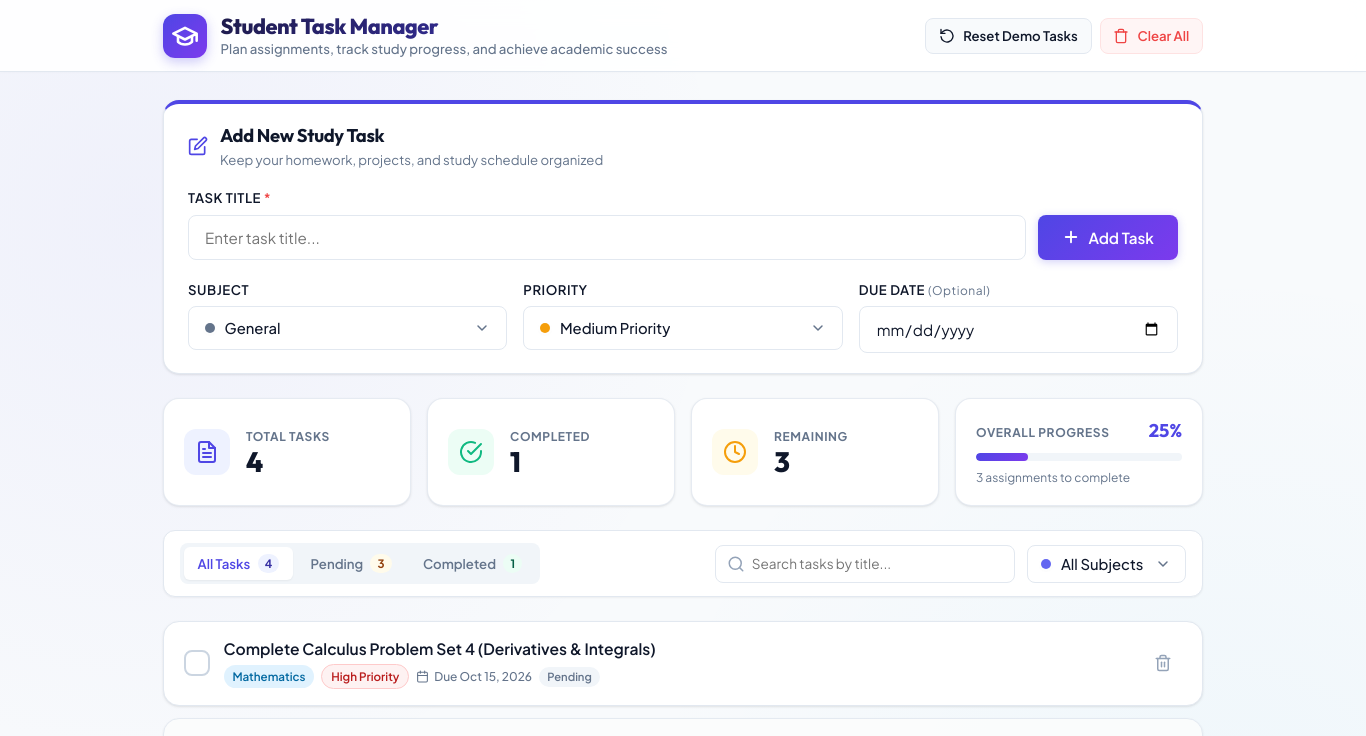
Test: Student Task Manager - Essential Assignment Test Suite › searches tasks dynamically by query title (Search Filter)
The image size is (1366, 736).
Type "History" into the search field with placeholder "Search tasks by title..." at (865, 564), box [715,545,1015,583]
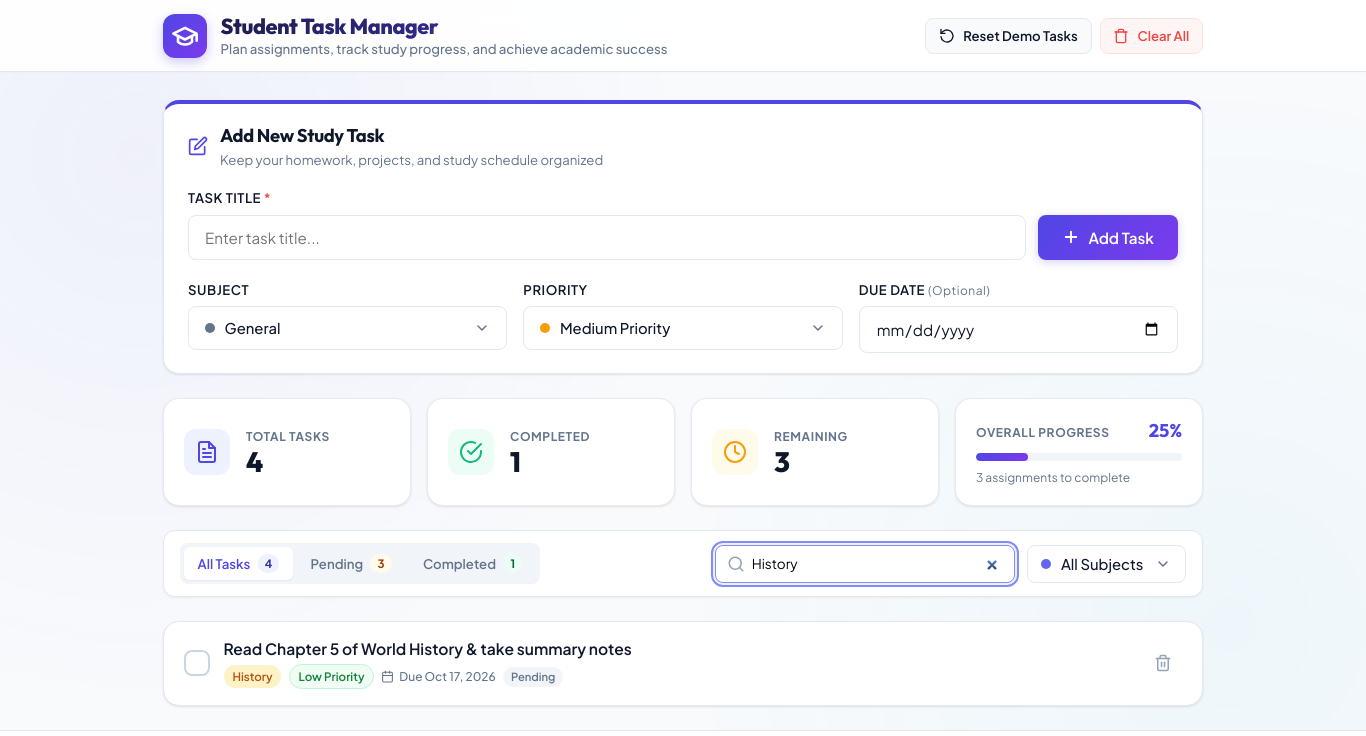
Check: the text "Read Chapter 5 of World History & take summary notes" is shown, box [224,638,632,659]
Check: the text "Complete Calculus Problem Set 4" is gone
Clear the search field with placeholder "Search tasks by title..." at (865, 564), box [715,545,1015,583]
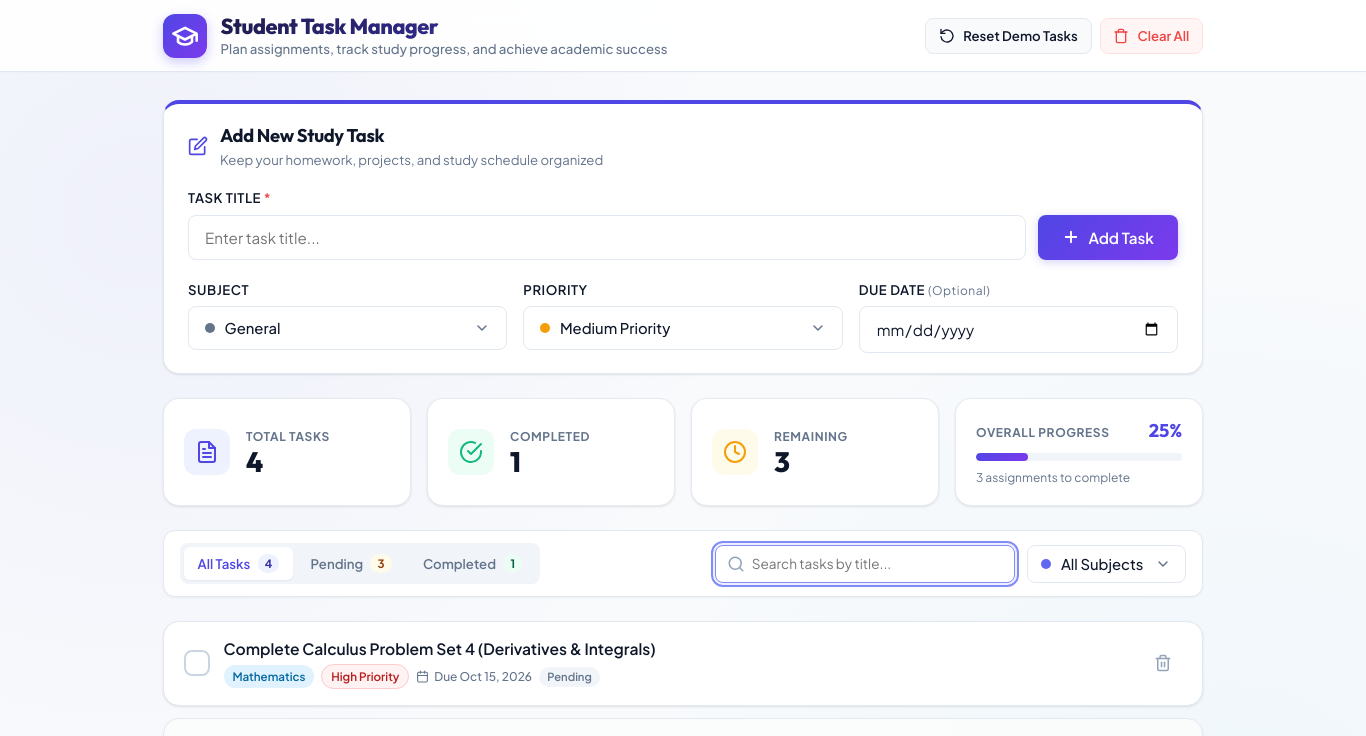
Check: the text "Complete Calculus Problem Set 4 (Derivatives & Integrals)" is shown, box [224,638,656,659]
